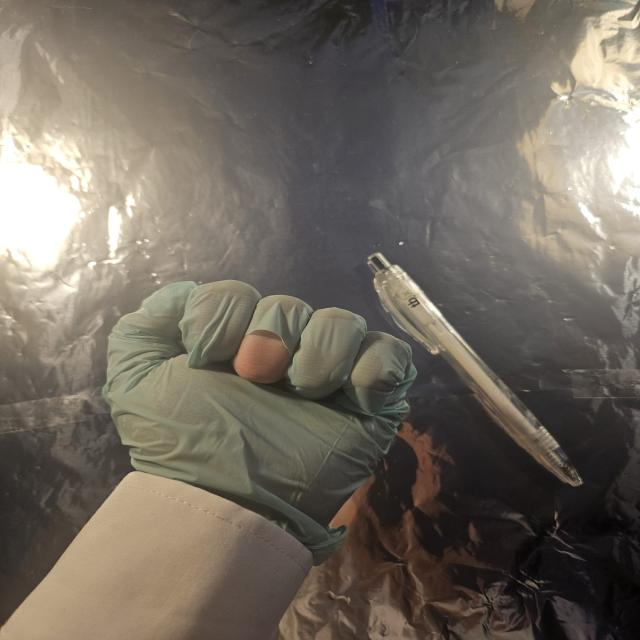gloves_damaged: (98, 278, 420, 566)
